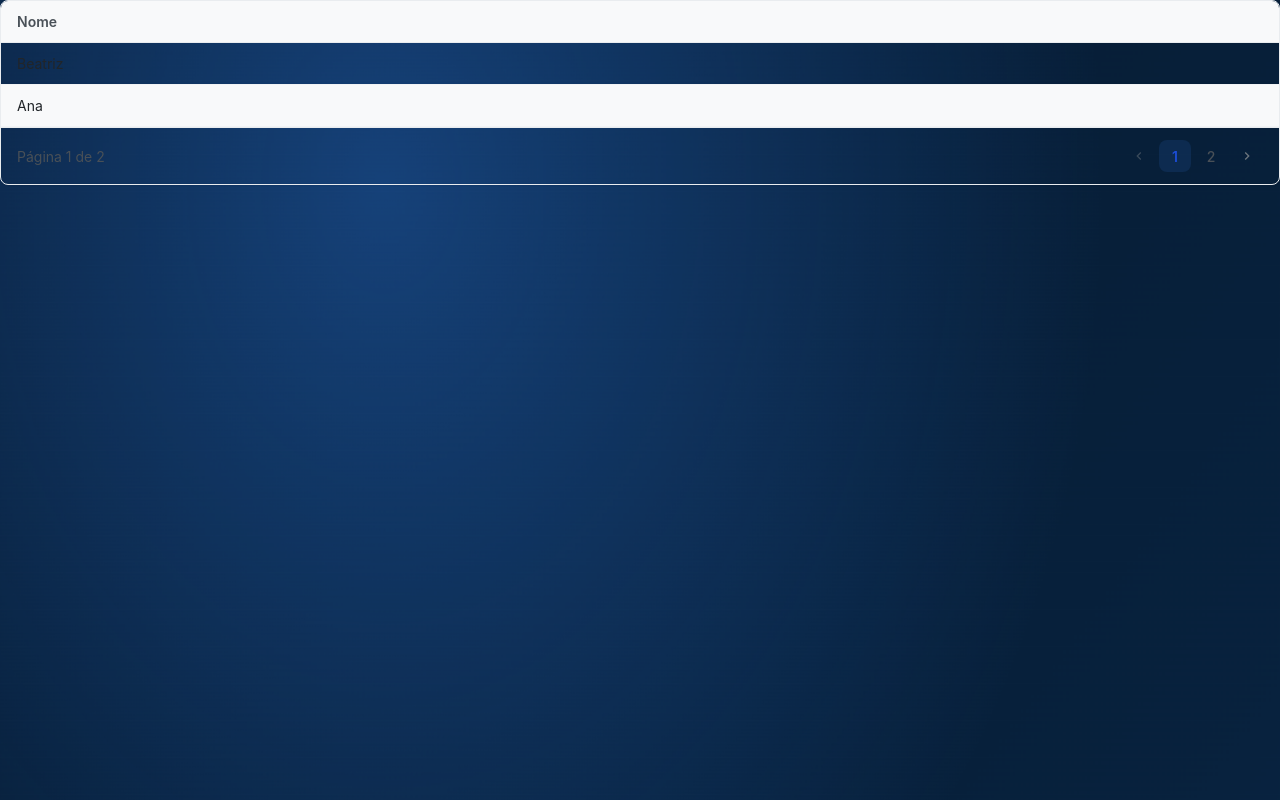
Scenario: Table › paginates value into pages of rows items, navigable via the footer buttons
Expected: the text "Beatriz" is shown, [1, 42, 1279, 84]
Expected: the text "Ana" is shown, [1, 84, 1279, 126]
Click the button named "Próxima".
click(1247, 156)  # box [1231, 140, 1263, 172]
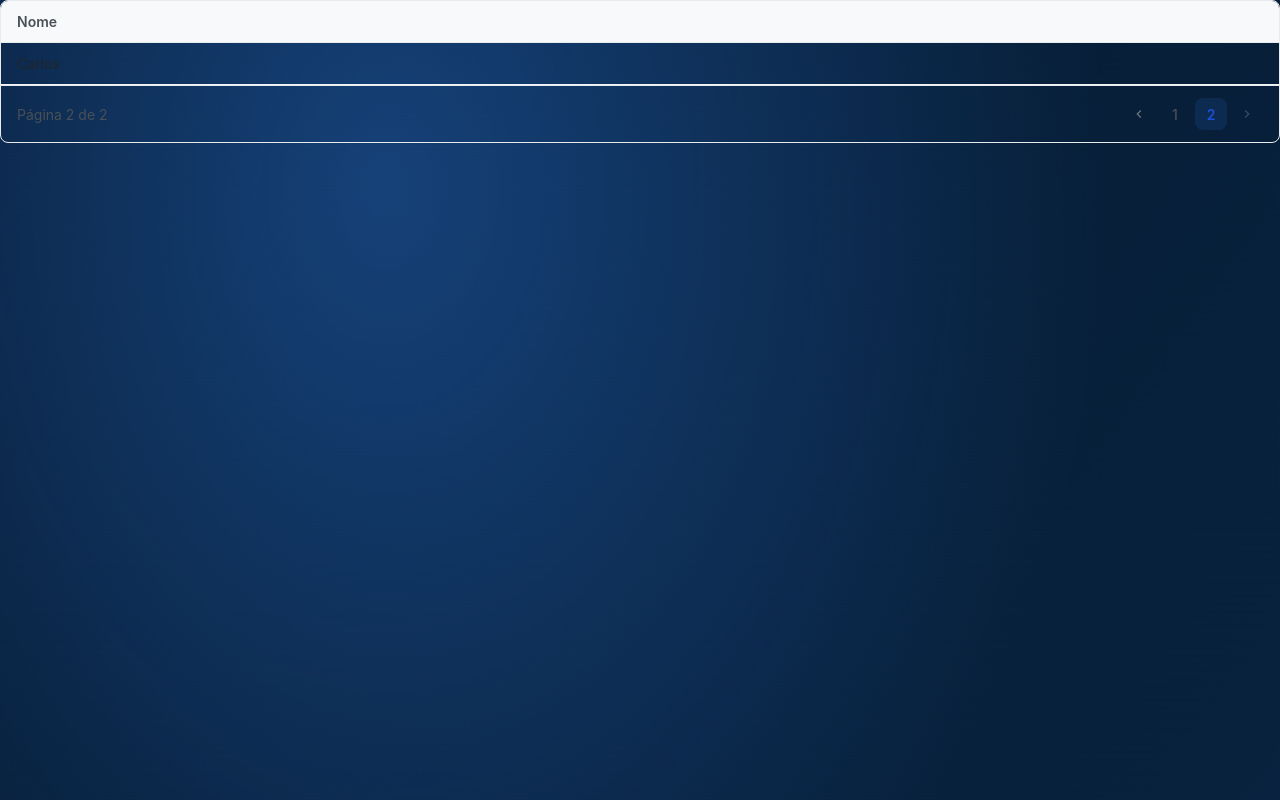
Now the text "Carlos" is shown, box [1, 42, 1279, 84]
Now the text "Página 2 de 2" is shown, box [17, 104, 108, 124]
Now the button named "Próxima" is disabled, box [1231, 98, 1263, 130]
Click the button named "Anterior".
click(1139, 114)  # box [1123, 98, 1155, 130]
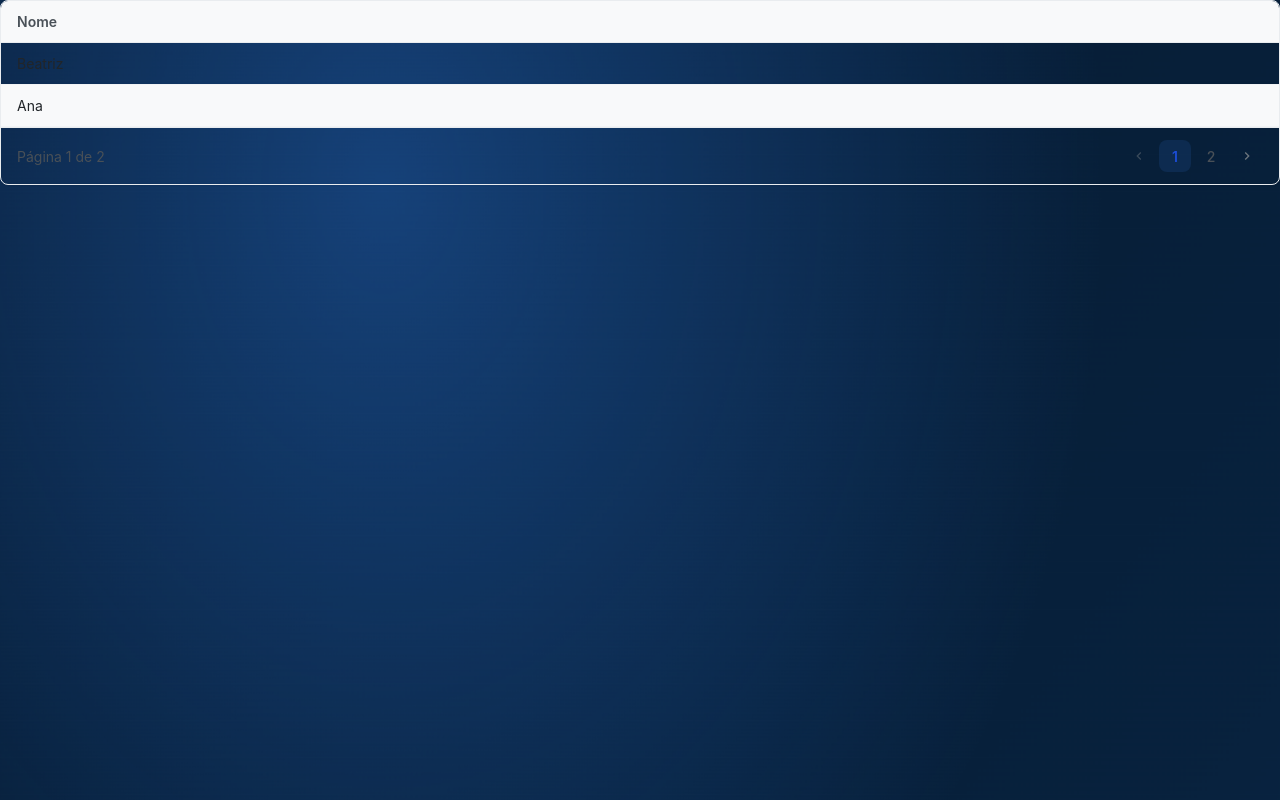
Expected: the button named "Anterior" is disabled, [1123, 140, 1155, 172]
Now the text "Beatriz" is shown, box [1, 42, 1279, 84]
